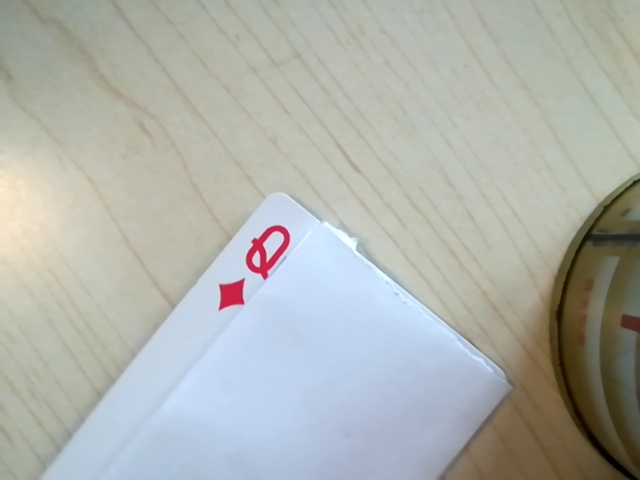fk q: (208, 218, 305, 315)
